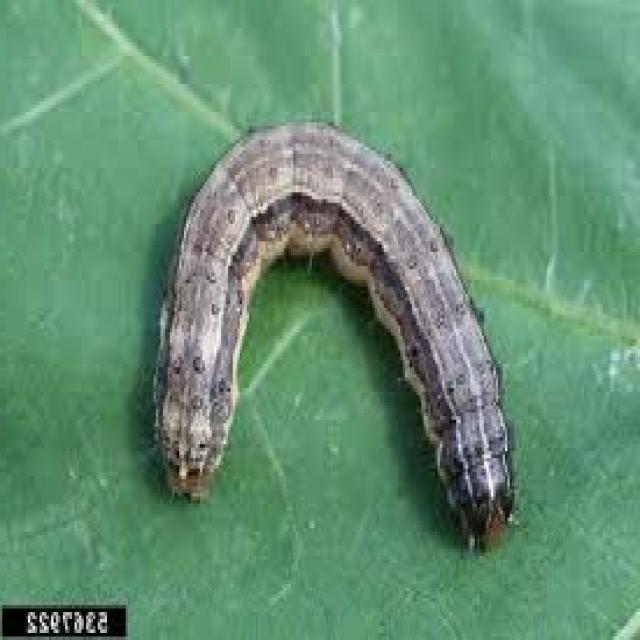armyworm: (149, 125, 520, 522)
